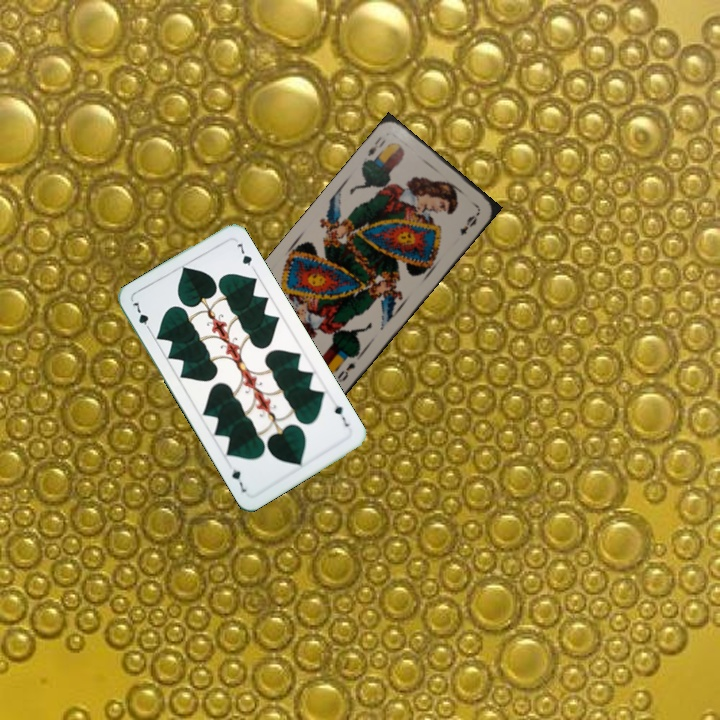EO: (331, 351, 359, 387), (363, 133, 389, 159)
G7: (128, 297, 154, 335), (330, 401, 352, 429)
